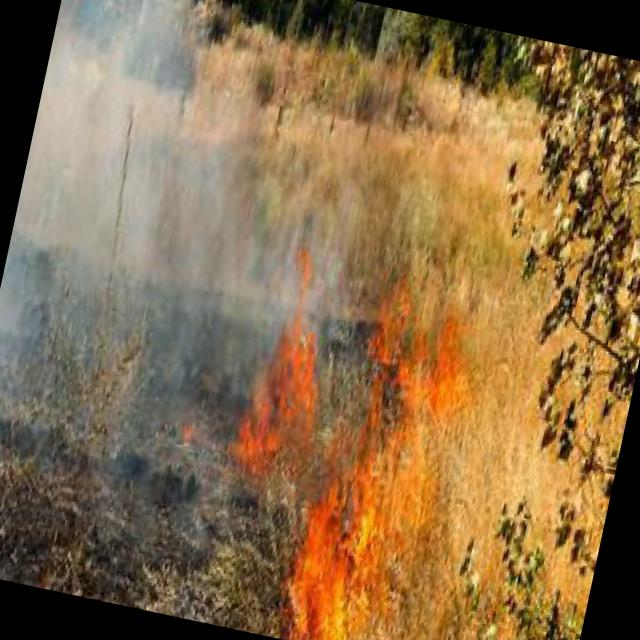fire: (290, 258, 478, 640), (230, 266, 344, 494)
smoke: (0, 0, 365, 520)
